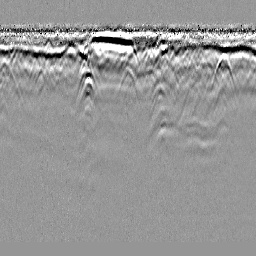cavity: (116, 66, 140, 104)
